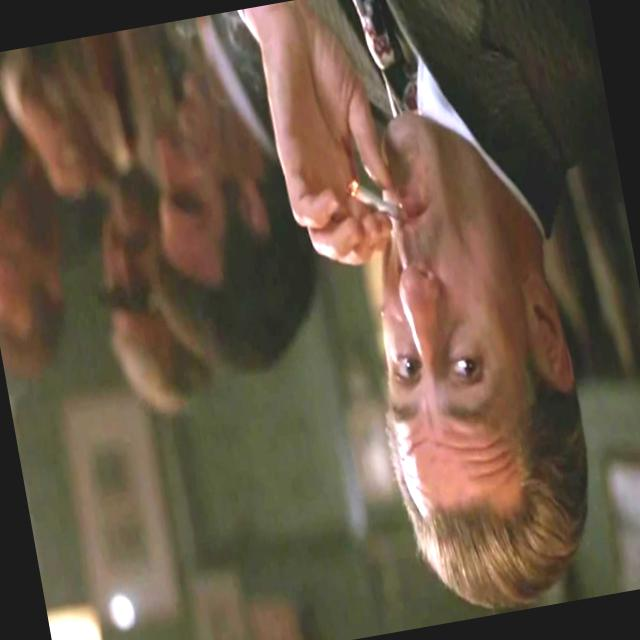smoke: (334, 158, 422, 255)
